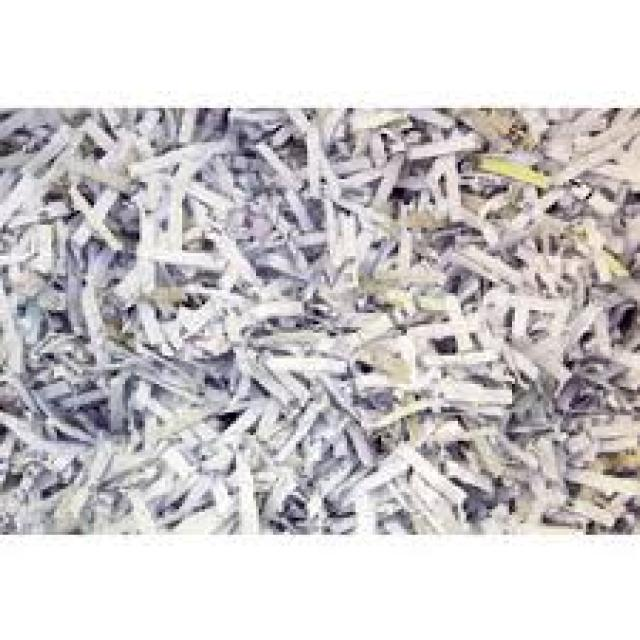paper: (0, 108, 637, 532)
